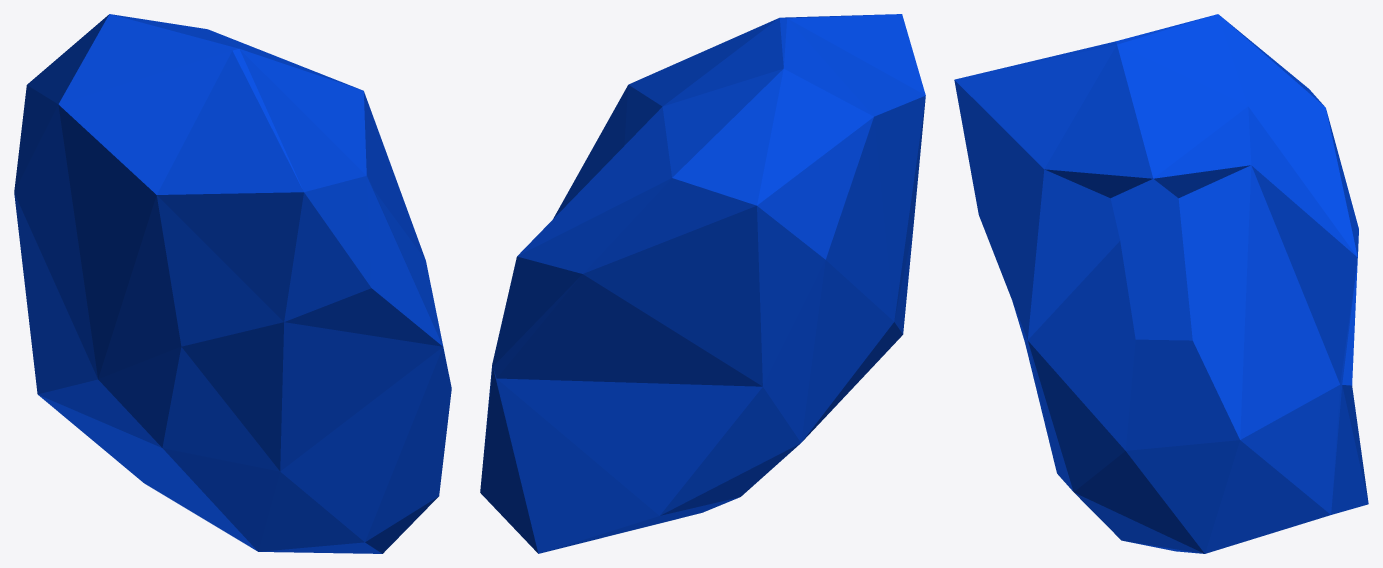
The model's file is level2coolrock.fbx.
The picture shows the model from 3 angles, left to right: view 1: azimuth 30°, elevation 25°; view 2: azimuth 150°, elevation 25°; view 3: azimuth 270°, elevation 25°; orthographic projection. The views are drawn at different scales.
Visible parts, largest first — view 1: Icosphere.007; view 2: Icosphere.007; view 3: Icosphere.007.
Boxes of the visible parts, bbox=[...] form: Icosphere.007: bbox=[14, 14, 451, 553]; Icosphere.007: bbox=[480, 14, 925, 553]; Icosphere.007: bbox=[954, 14, 1368, 553].
Bounding box in the file's own units: 2754 × 3877 × 3291.
